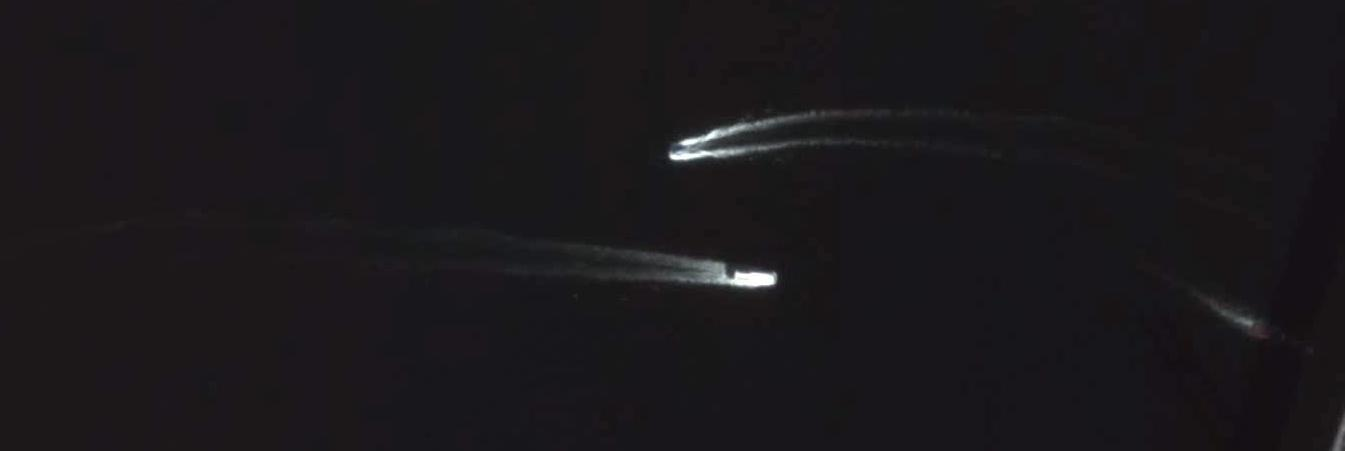person: (1276, 333, 1313, 354), (734, 270, 776, 287), (670, 146, 688, 153)
